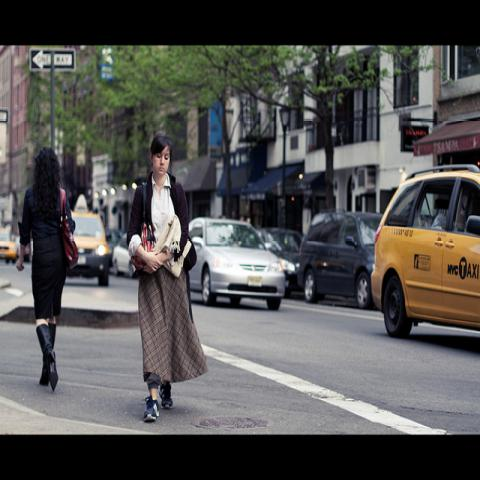car: (370, 162, 480, 337), (187, 216, 285, 311), (295, 206, 380, 309), (67, 194, 110, 288), (252, 227, 300, 297), (111, 234, 132, 278), (0, 227, 17, 264), (14, 236, 29, 262)
